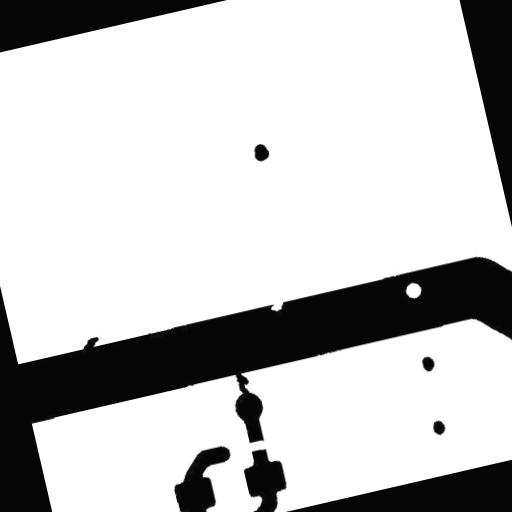copper: (244, 133, 280, 171)
mousebite: (260, 291, 294, 321)
open: (235, 429, 280, 462)
pin-hole: (395, 272, 432, 309)
short: (226, 361, 261, 406)
spur: (72, 328, 109, 360)
